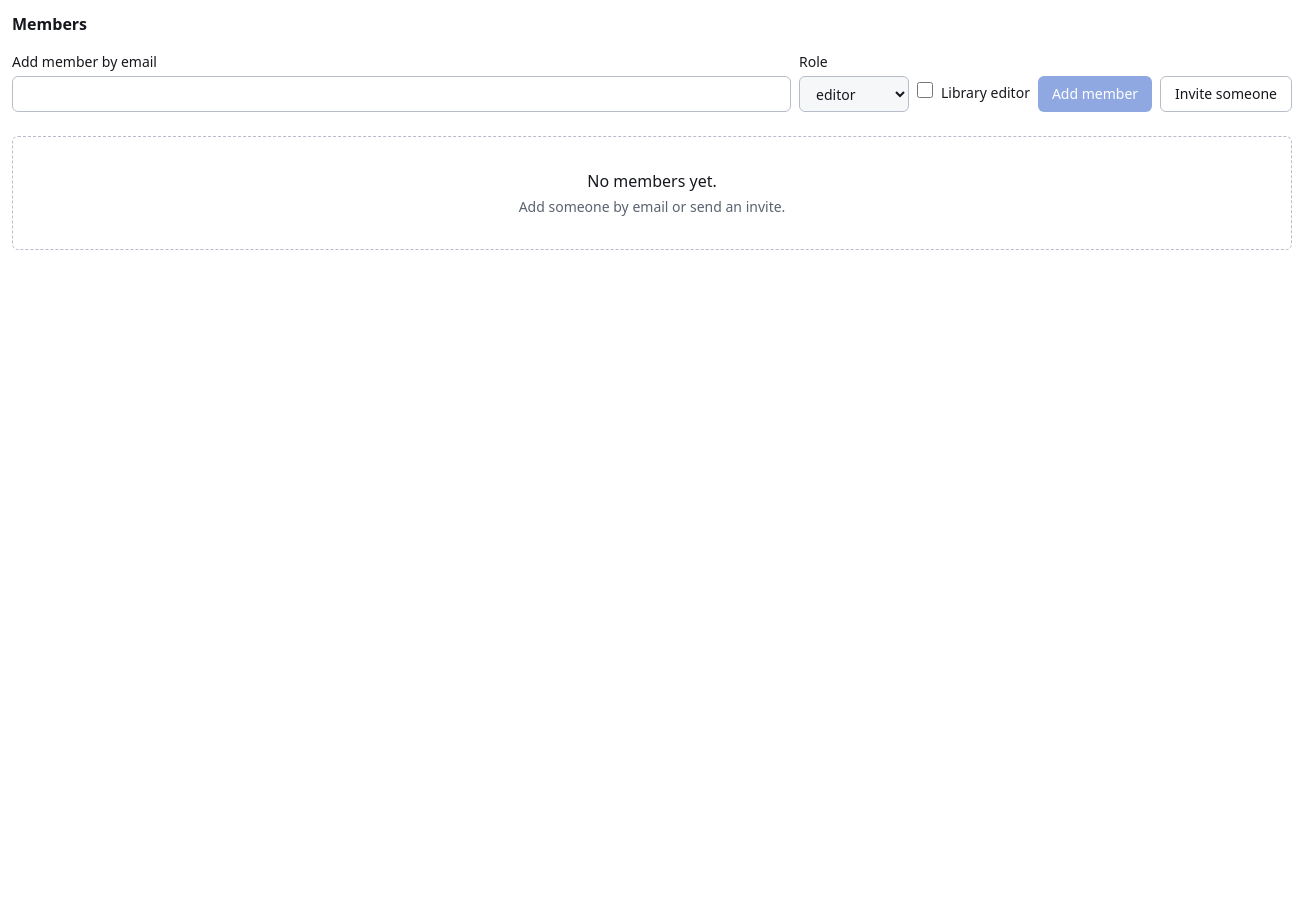
Test: MembersPanel library editor › the add form sends library_editor only when ticked, and hides it for admin
Step 1. Type "new@example.com" into the field labelled "Add member by email" → (402, 94), box [12,76,791,112]
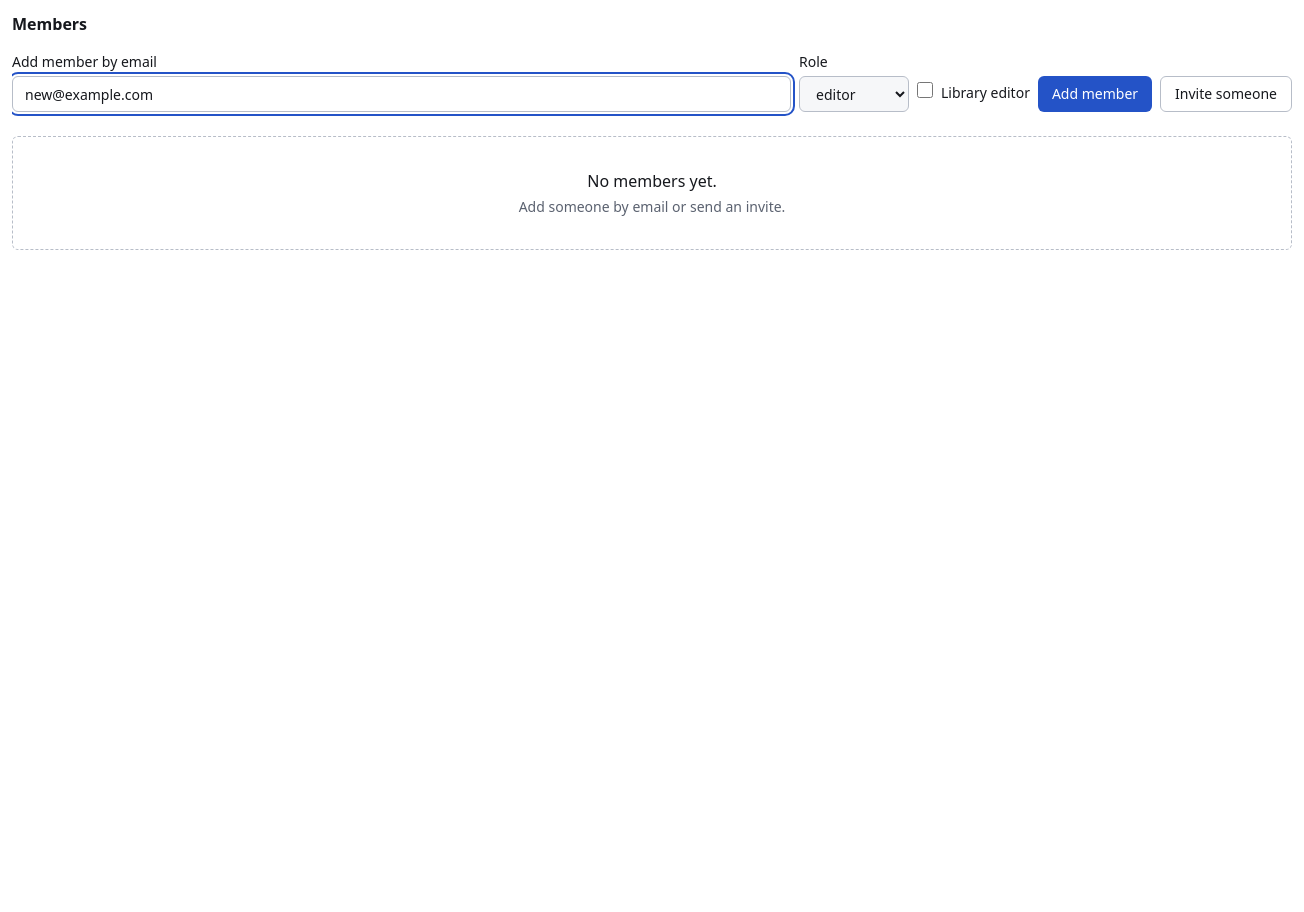
Step 2. Click the checkbox labelled "Library editor" → (925, 90), box [917,82,933,98]
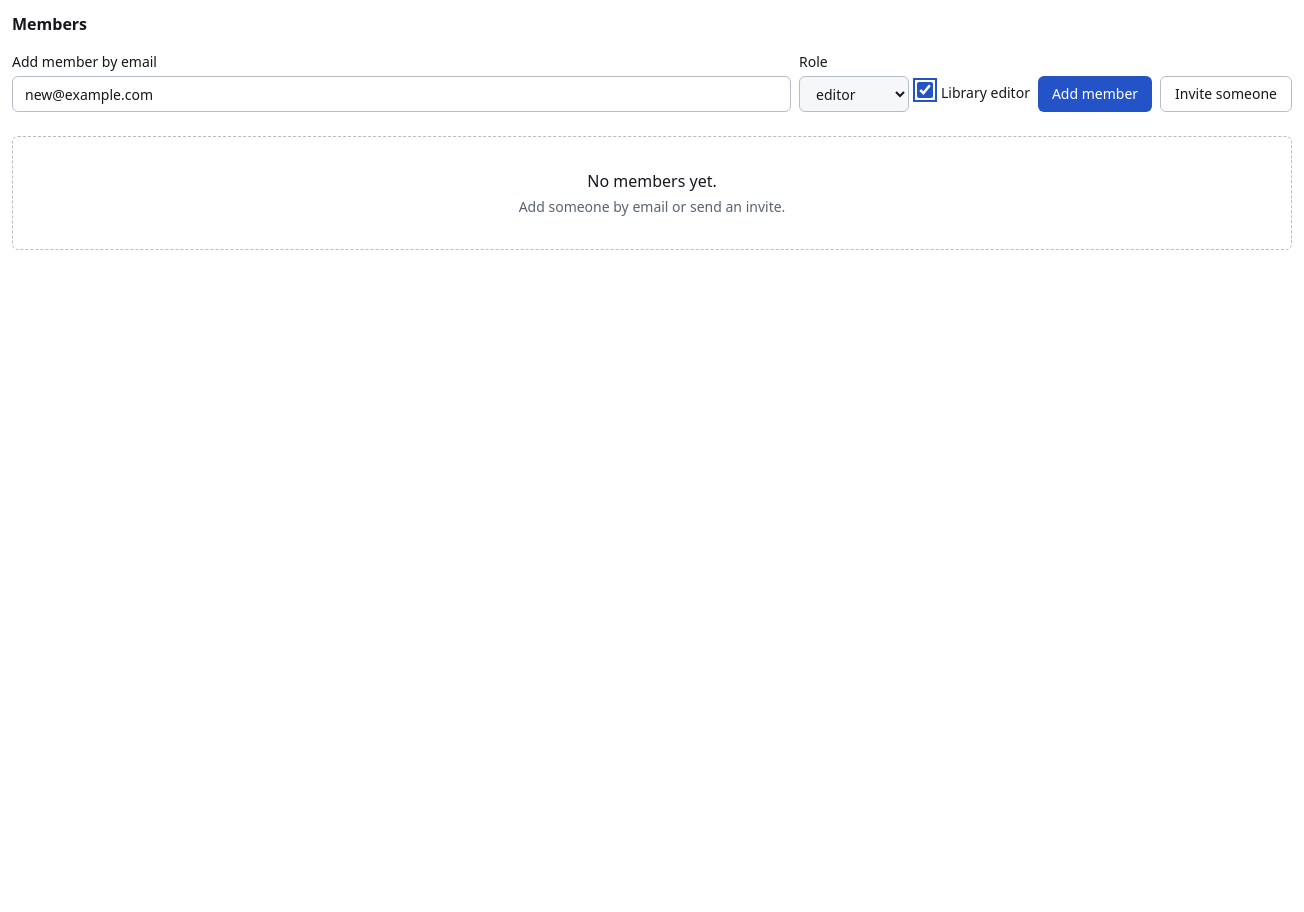
Step 3. Click the button "Add member" → (1095, 94), box [1038,76,1152,112]
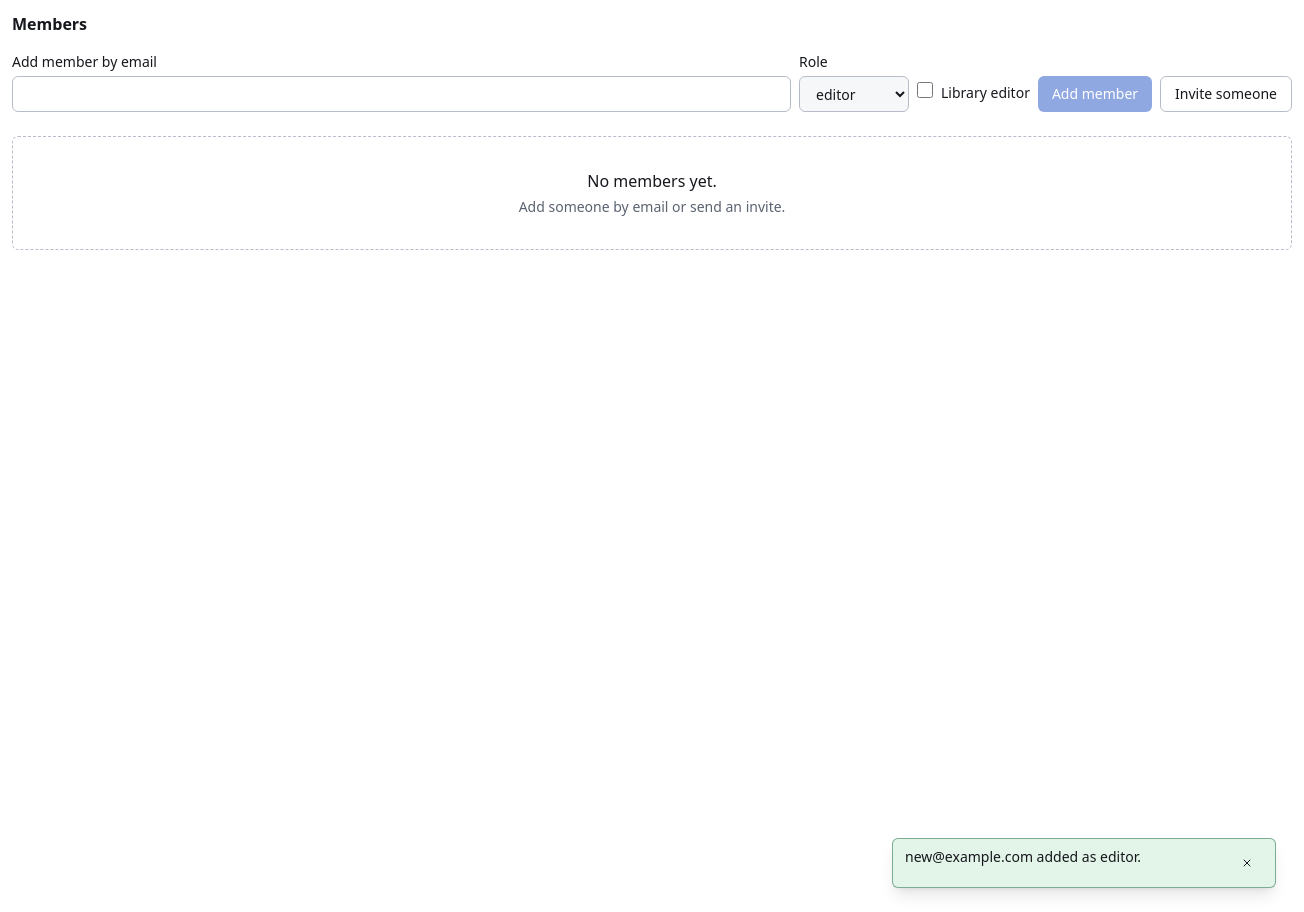
Step 4. Select "admin" in the dropdown labelled "Role" → (854, 94), box [799,76,909,112]
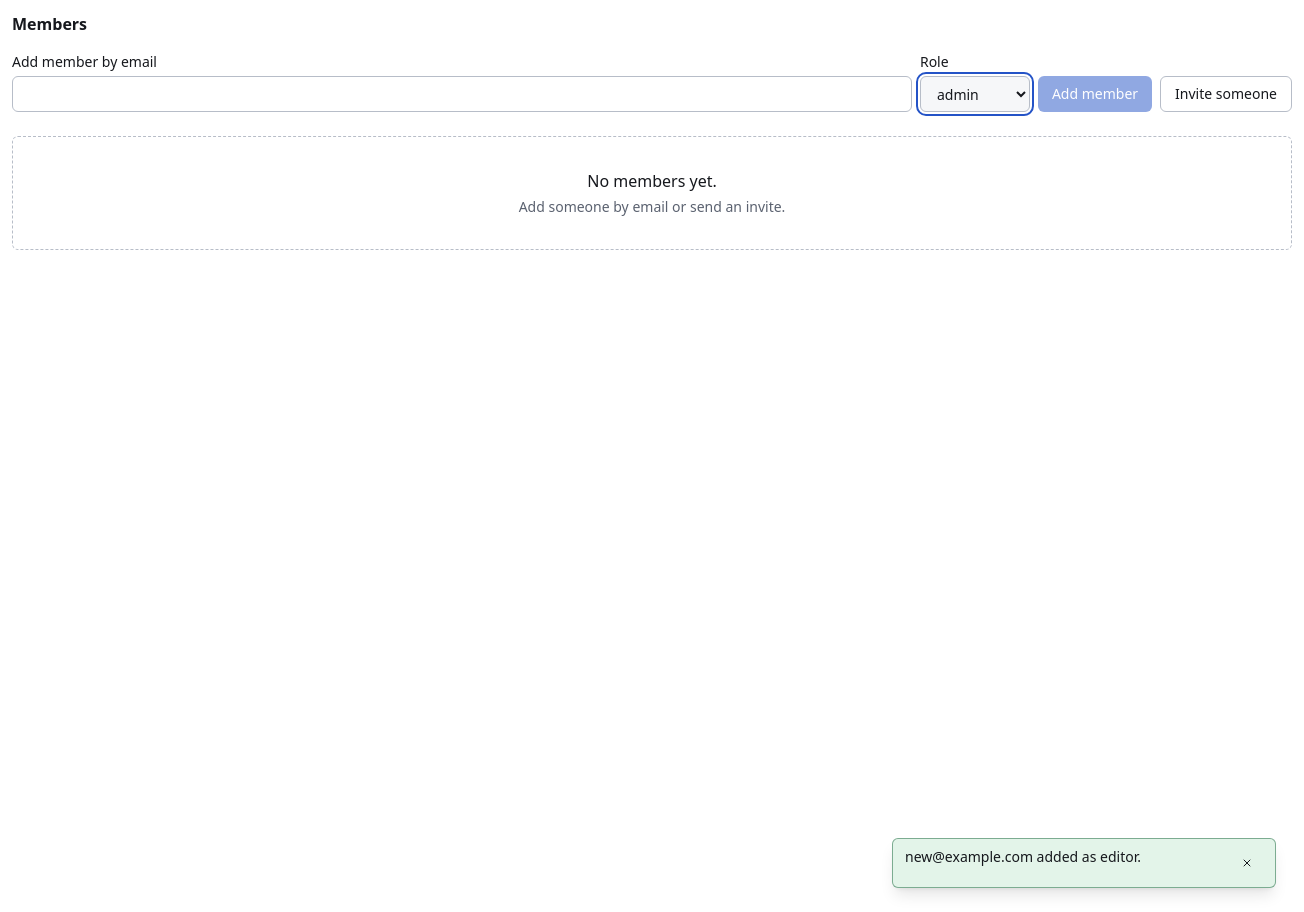
Expected: the label labelled "Library editor" is gone
